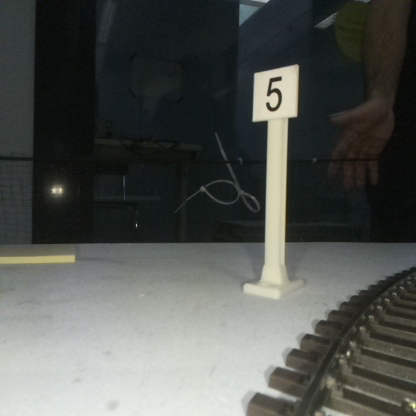white-info-5: (253, 65, 297, 295)
